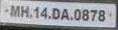character: (9, 5, 19, 17), (20, 5, 29, 18), (51, 7, 60, 19), (60, 8, 69, 20), (97, 9, 105, 22), (40, 7, 48, 19), (81, 9, 89, 21), (89, 9, 97, 21), (73, 8, 80, 20), (33, 6, 39, 18)
